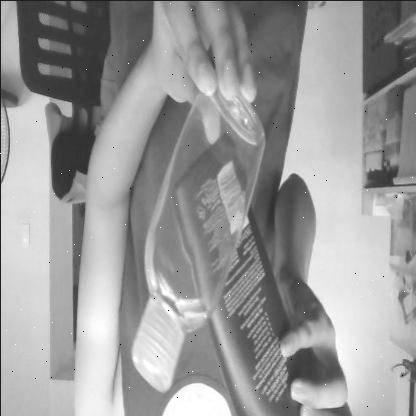Plastic Bottle: (130, 53, 261, 396)
